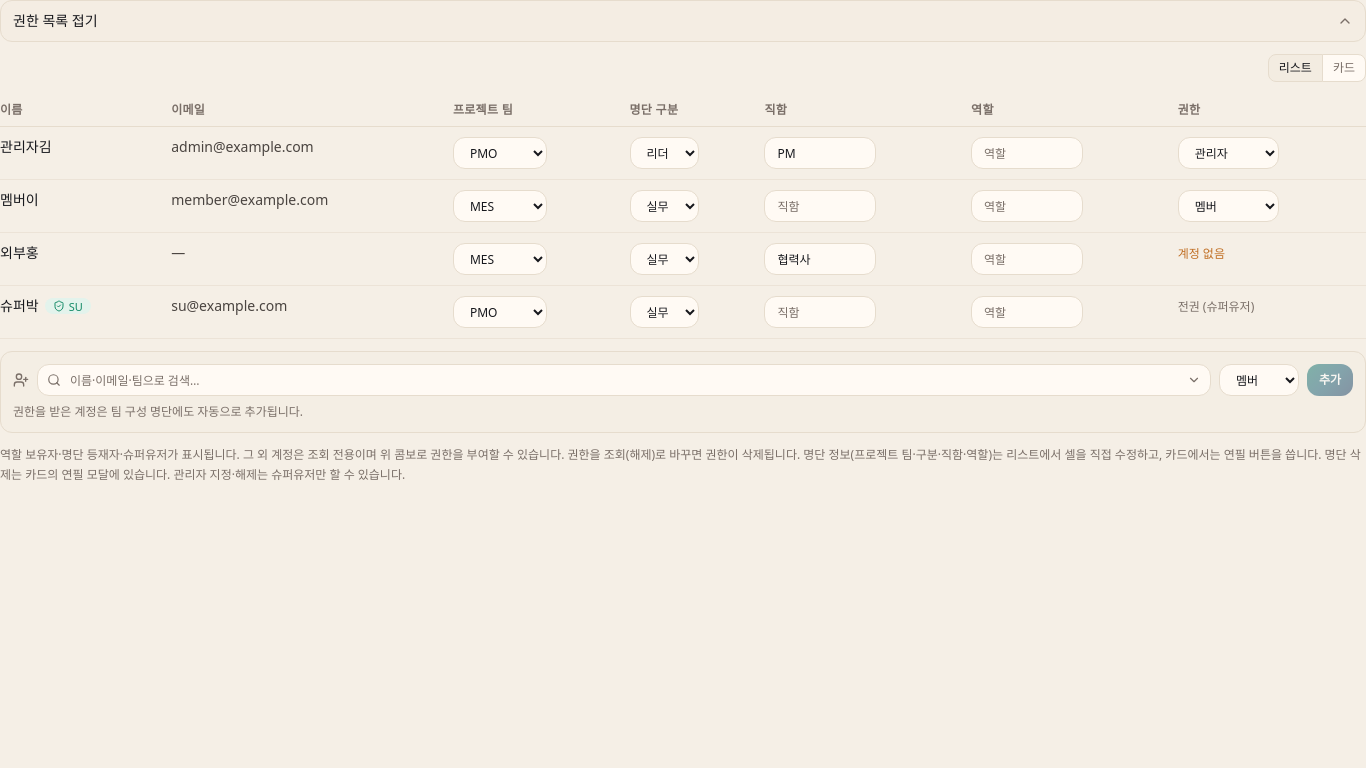
it: ProjectRolesManager 참여자·권한 통합 표 › 카드 뷰에서는 연필 버튼으로 명단 편집 모달을 연다
What coordinates should you click on to do the following:
click the button "카드"
I would click on:
 (1344, 68)
Its box is [1322,54,1365,82].
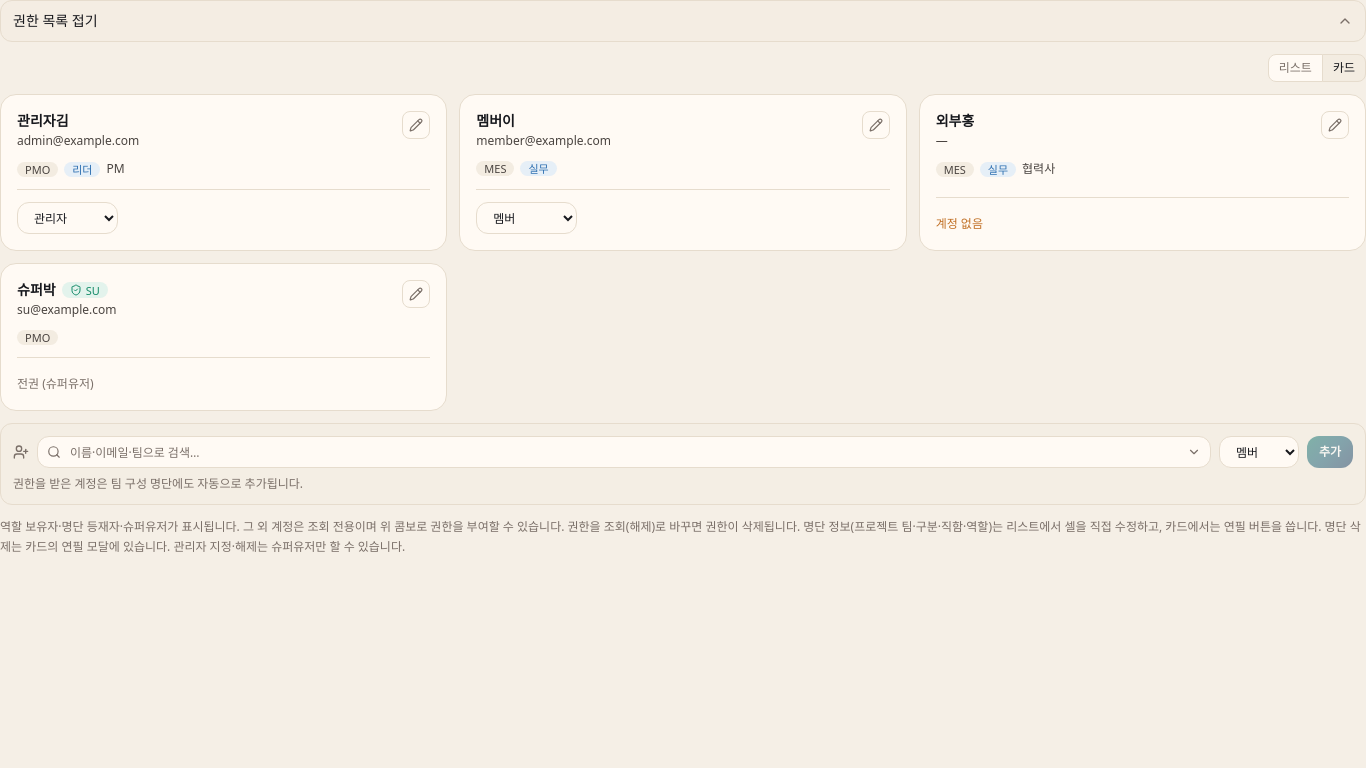
What coordinates should you click on to do the following:
click the button named "관리자김 명단 정보 수정"
I would click on:
 (416, 125)
Its box is [402,111,430,139].
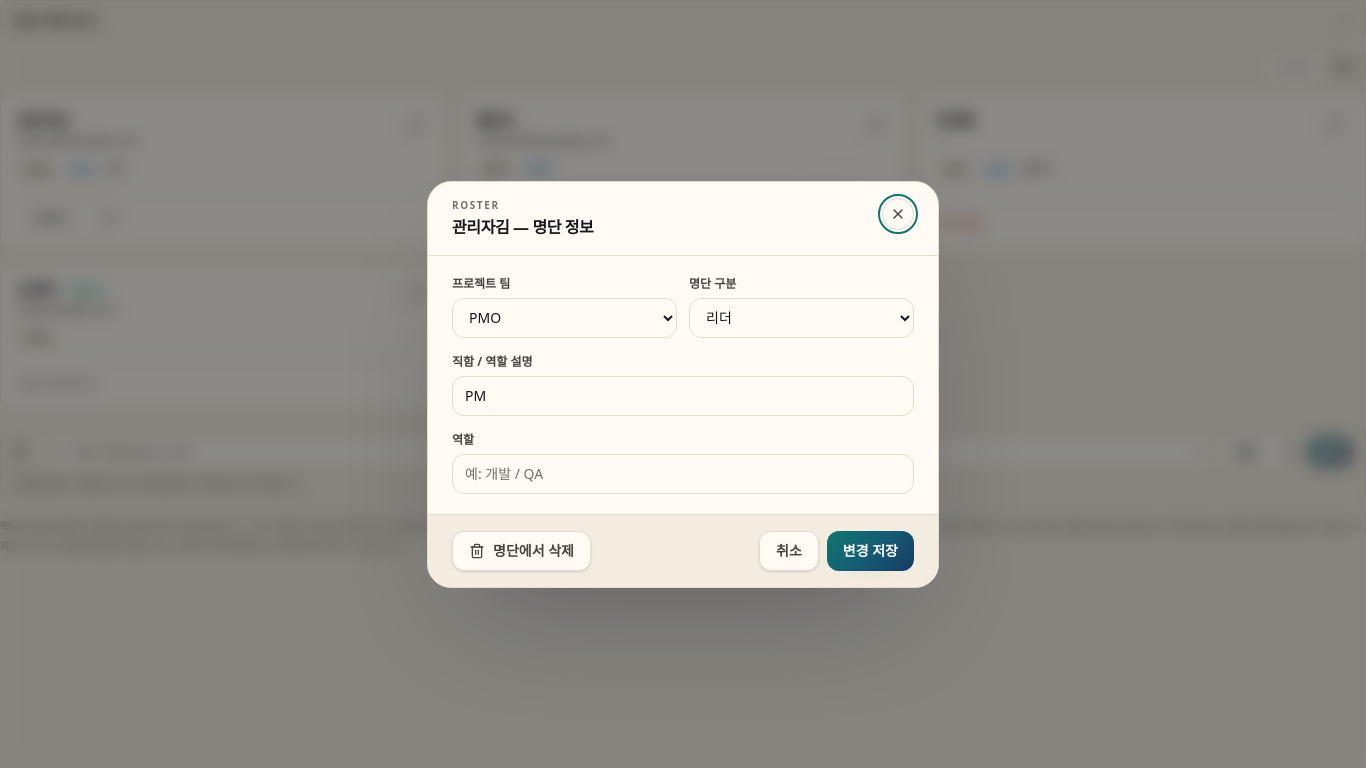
Check: the text "프로젝트 팀" is shown, box [0,518,1361,555]
Check: the text "관리자김 — 명단 정보" is shown, box [452,214,594,238]
Check: the text "명단 구분" is shown, box [689,274,736,292]
